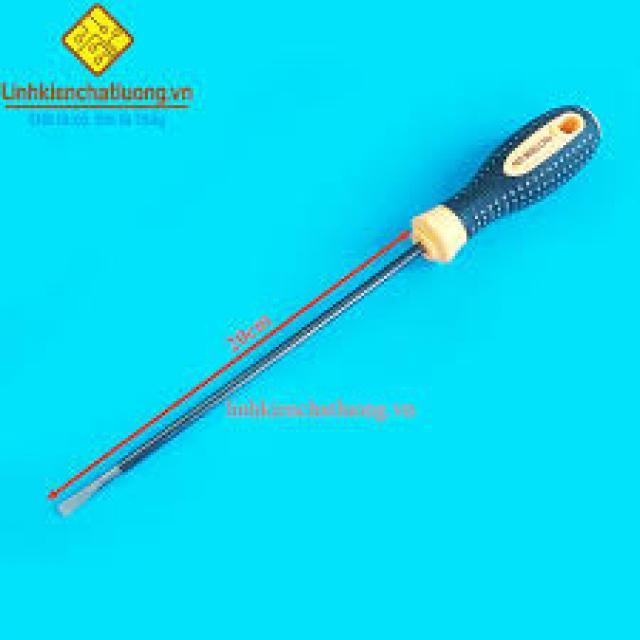screwdriver: (52, 100, 604, 520)
